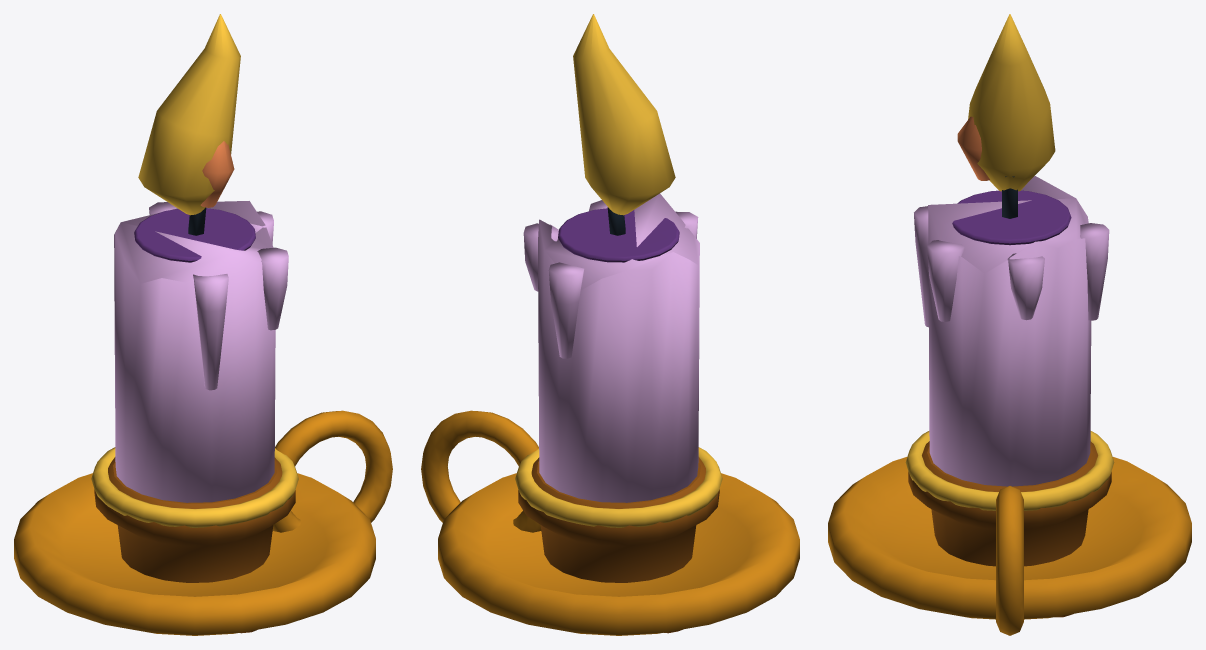
Rendered from ghost_candle.glb.
3 views of the same model, side by side, from view 1: azimuth 30°, elevation 25°; view 2: azimuth 150°, elevation 25°; view 3: azimuth 270°, elevation 25° (orthographic).
Parts seen in each view (by area): view 1: ghost_candle_runtime; view 2: ghost_candle_runtime; view 3: ghost_candle_runtime.
Part boxes in pixels (box(x1,y1,x2,y2)): ghost_candle_runtime: box(14, 14, 392, 635); ghost_candle_runtime: box(421, 14, 799, 635); ghost_candle_runtime: box(828, 14, 1191, 635).
Bounding box in the file's own units: 0.8389 × 1.3 × 0.7447.
1 material, 1 textured.
